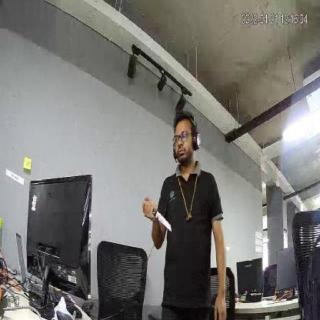knife: (152, 201, 172, 240)
